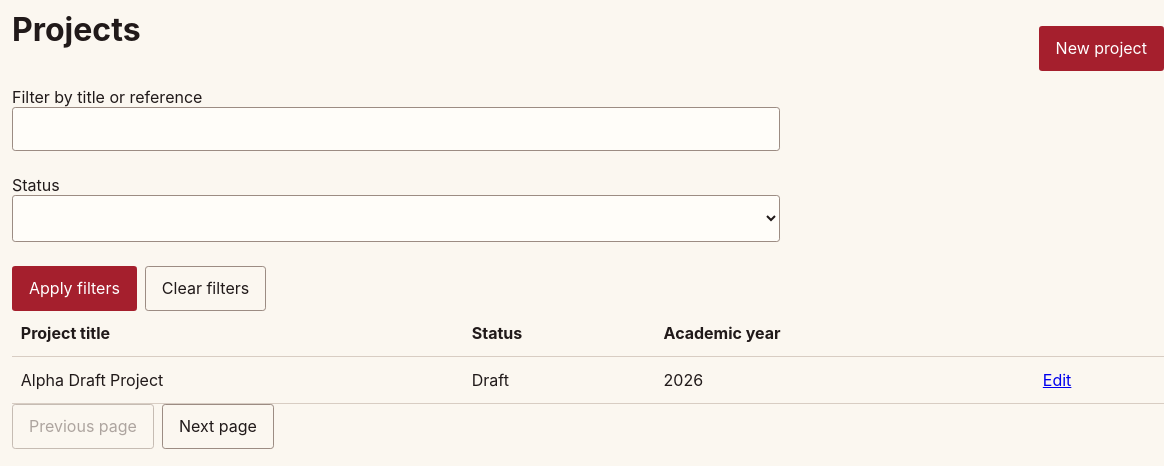
Scenario: administrator project list › filters with exact parameters and pages through cursor history without duplicates
Expected: the text "Alpha Draft Project" is shown, [12, 357, 463, 403]
Type "Alpha" into the field labelled "Filter by title or reference" at (396, 129), box [12, 107, 780, 151]
Select "Draft" in the dropdown labelled "Status" at (396, 218), box [12, 195, 780, 242]
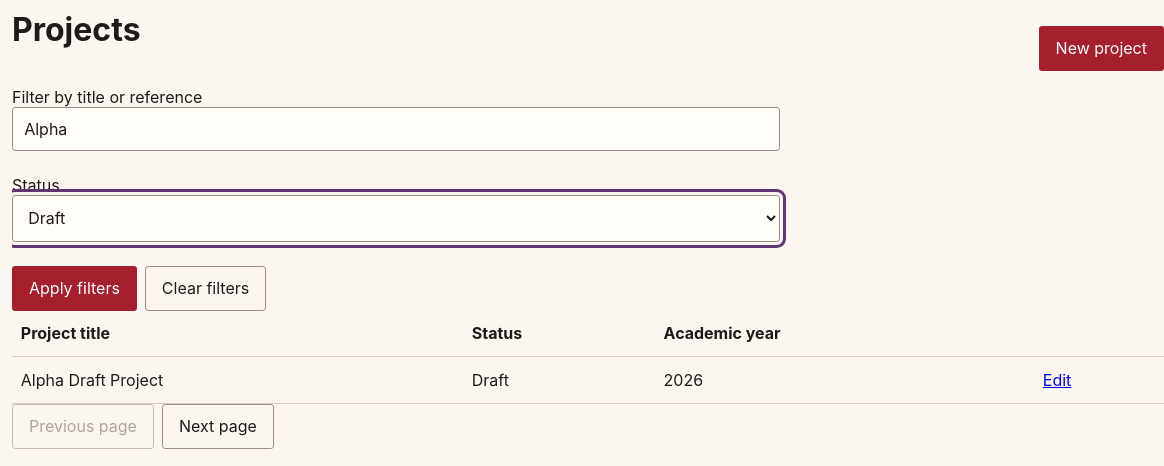
Click the button "Apply filters" at (74, 288), box [12, 266, 137, 311]
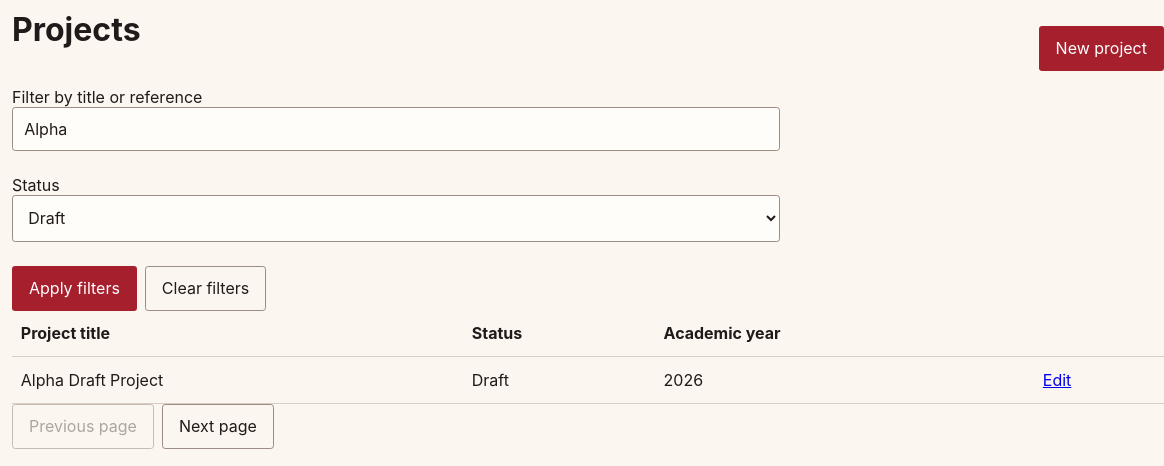
Click the button "Next page" at (218, 426), box [162, 404, 274, 449]
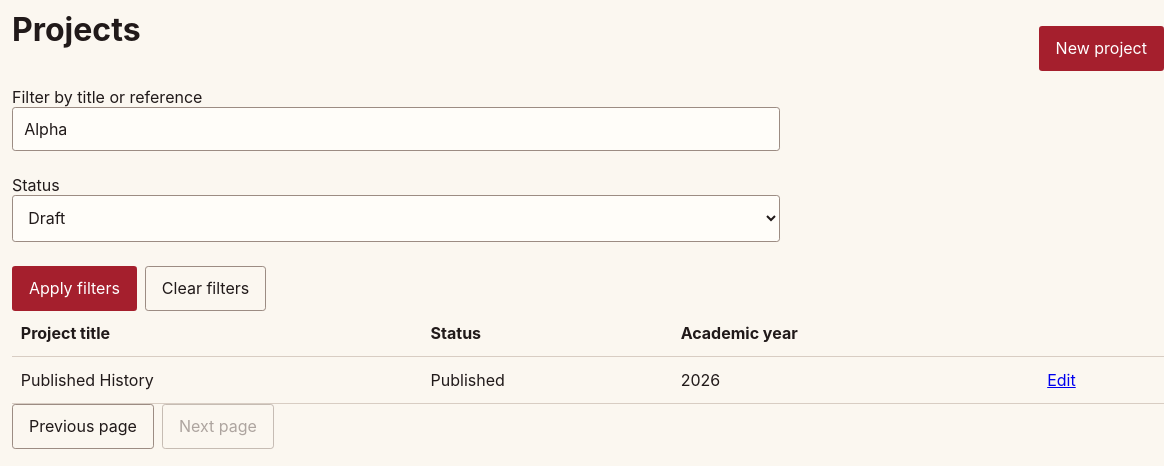
Expected: the text "Published History" is shown, [12, 357, 422, 403]
Click the button "Previous page" at (83, 426), box [12, 404, 154, 449]
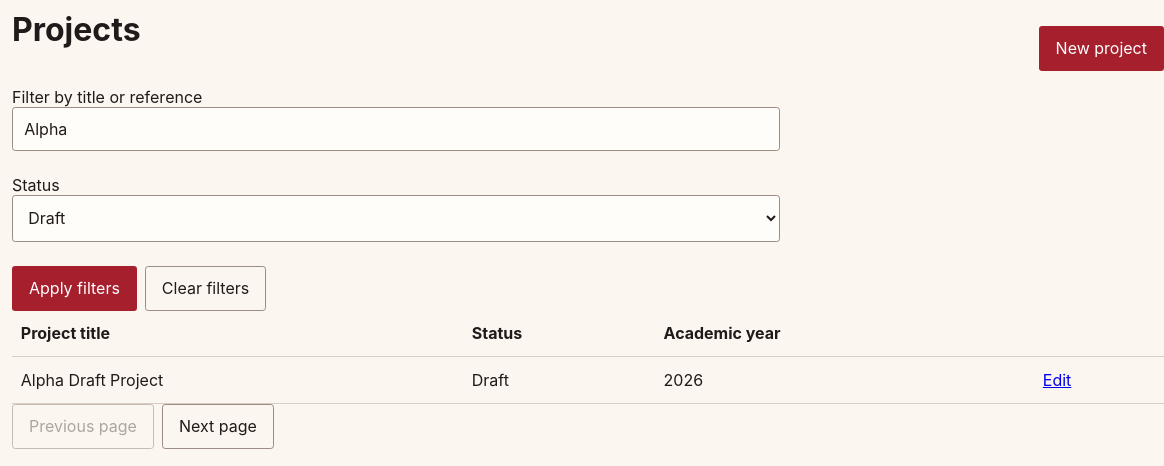
Expected: the text "Alpha Draft Project" is shown, [12, 357, 463, 403]
Click the button "Next page" at (218, 426), box [162, 404, 274, 449]
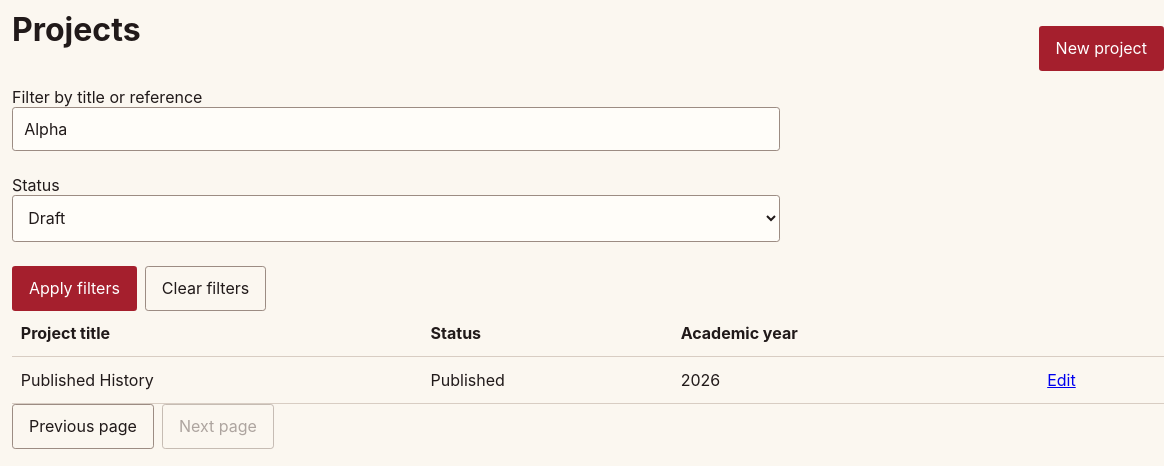
Click the button "Clear filters" at (206, 288), box [145, 266, 266, 311]
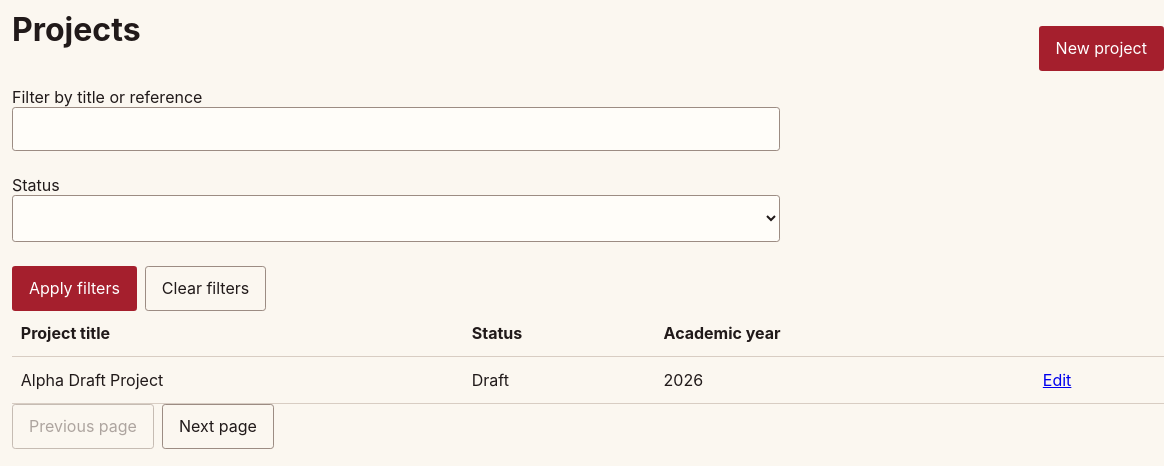
Expected: the text "Alpha Draft Project" is shown, [12, 357, 463, 403]
